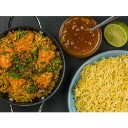briyani: (1, 36, 55, 98), (82, 62, 128, 113)
